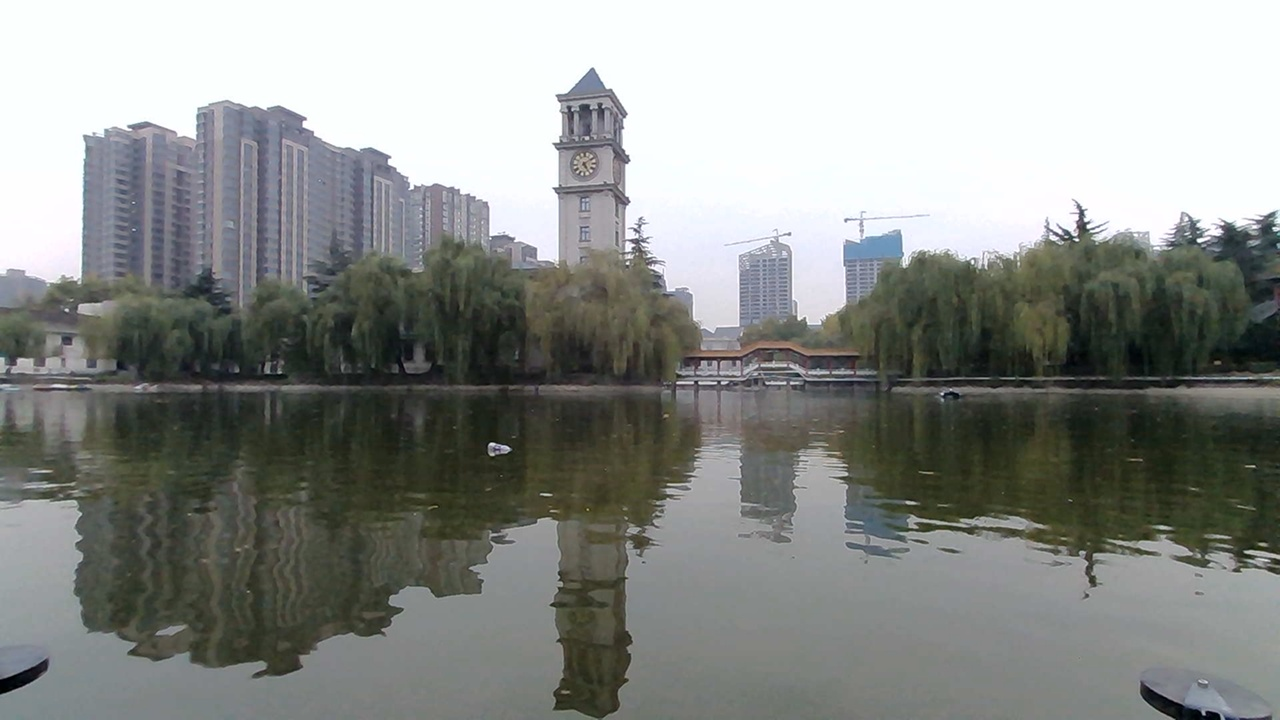bottle: (477, 427, 529, 465)
